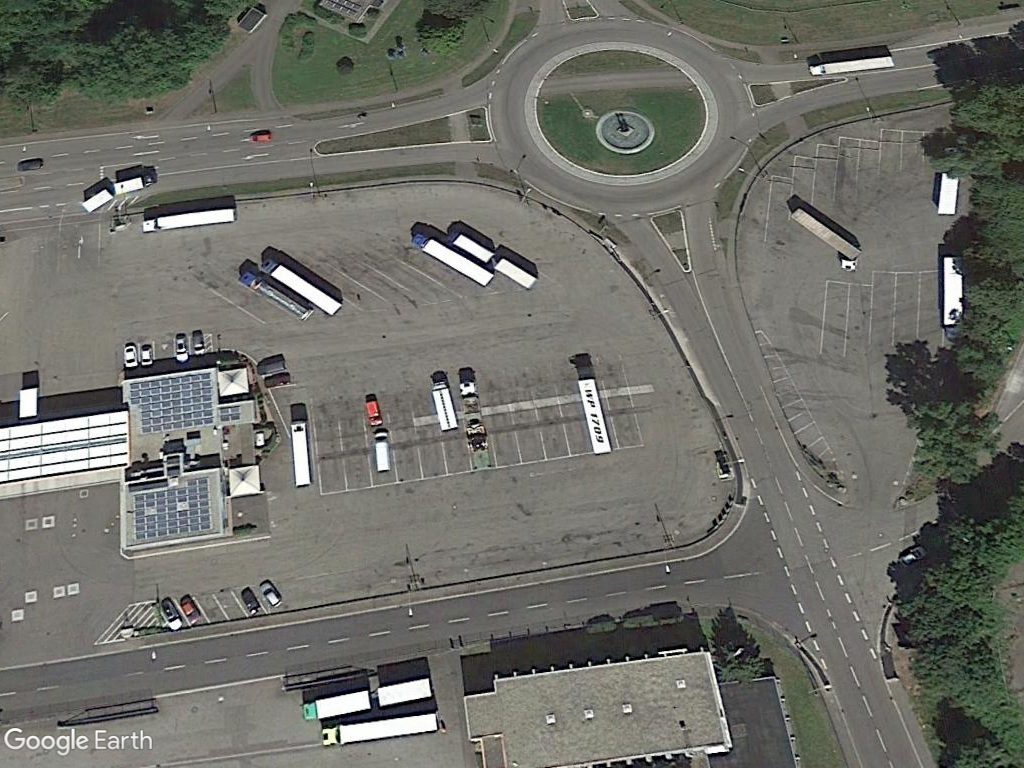car: (172, 331, 191, 366), (120, 340, 140, 371)
longvehicle: (316, 705, 445, 754), (565, 350, 613, 458), (135, 203, 237, 236), (286, 399, 316, 492), (803, 48, 895, 78)
truck: (425, 366, 460, 437)
van: (367, 426, 396, 476)
